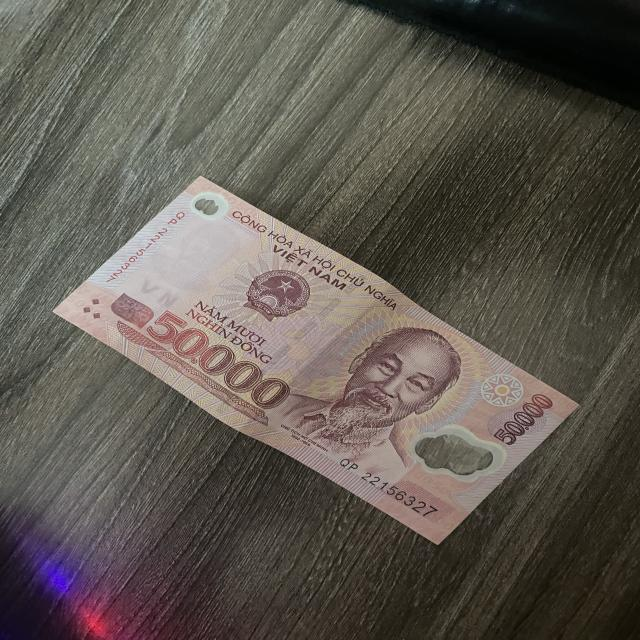50 000 VND: (51, 176, 581, 548)
